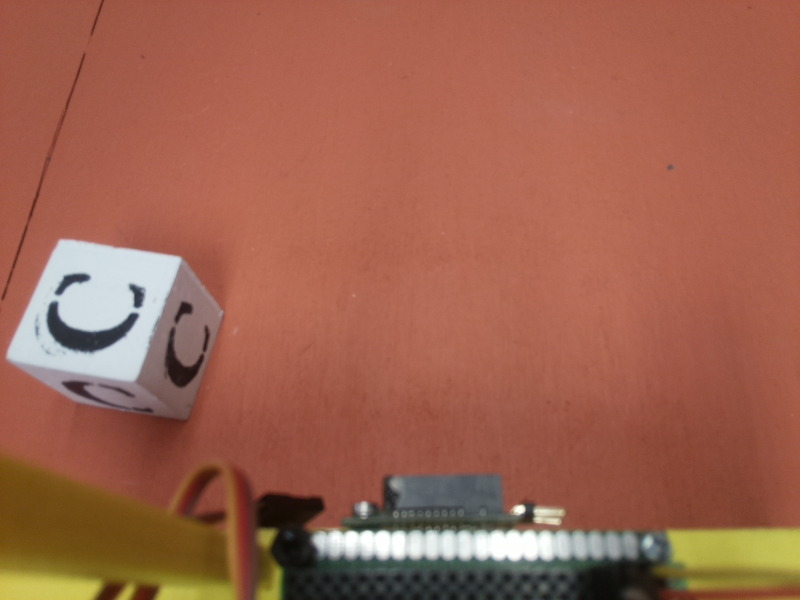blockC: (4, 236, 224, 428)
